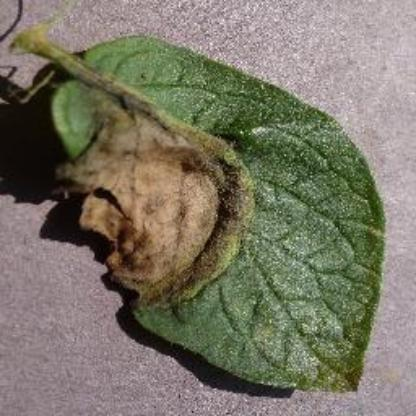Late-Blight: (52, 35, 390, 409)
